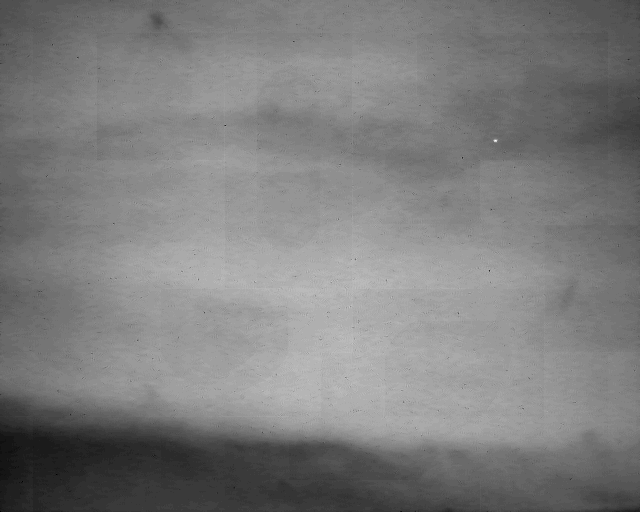Target: (493, 140, 497, 143)
